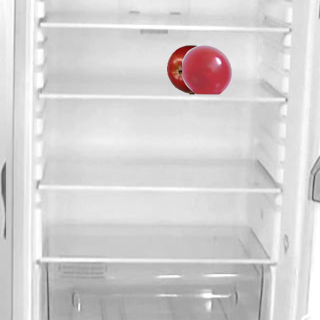Apple Braeburn: (166, 44, 216, 94)
Redcurrant: (181, 44, 231, 94)
